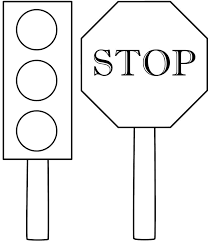SS: (79, 2, 209, 128)
